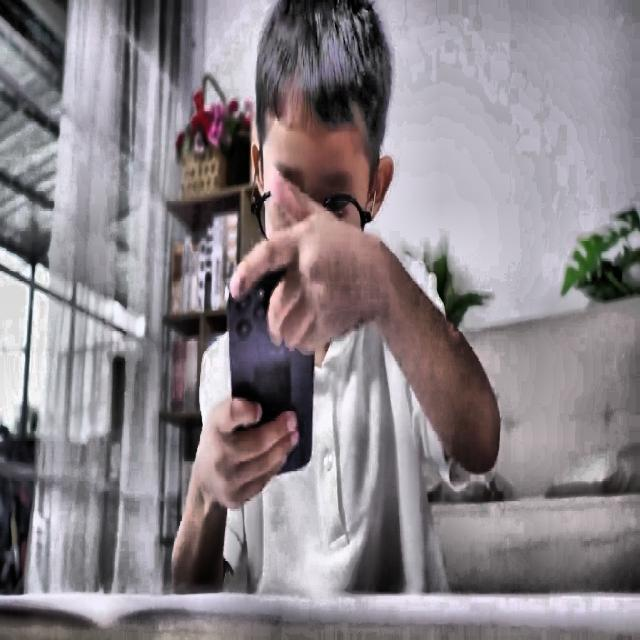Phone: (228, 273, 314, 475)
